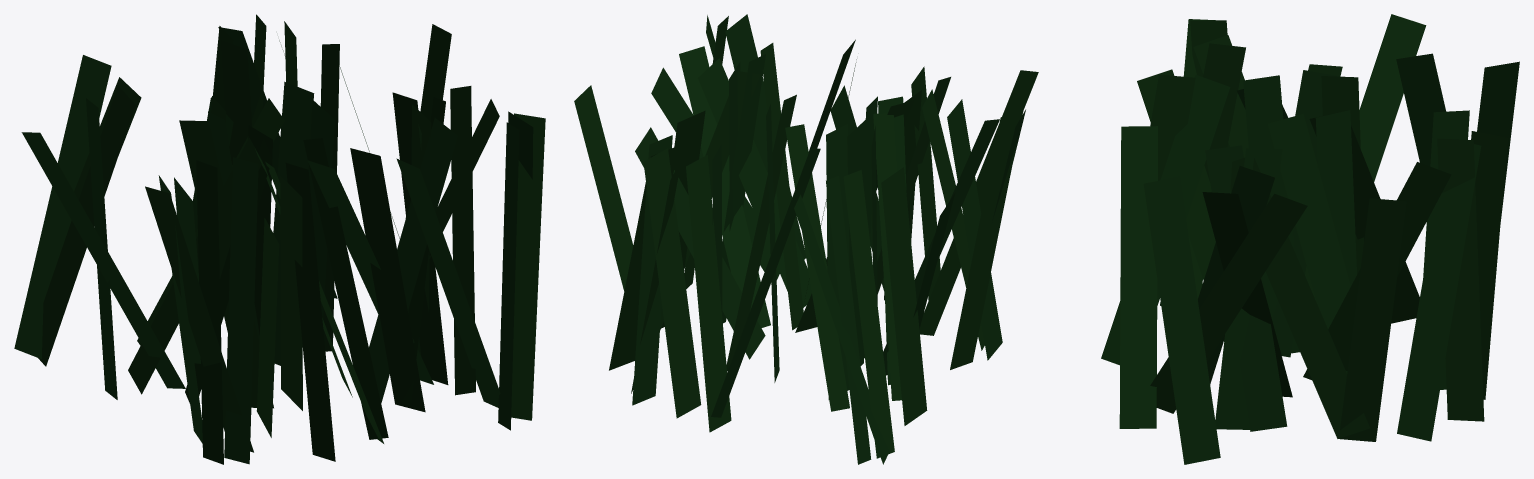
The model's file is grass.glb.
3 renders of one model, left to right at view 1: azimuth 30°, elevation 25°; view 2: azimuth 150°, elevation 25°; view 3: azimuth 270°, elevation 25°, orthographic. The views are drawn at different scales.
Parts seen in each view (by area): view 1: Plane.002; view 2: Plane.002; view 3: Plane.002.
Part boxes in pixels (x1=…): Plane.002: x1=14, y1=14, x2=545, y2=464; Plane.002: x1=574, y1=14, x2=1038, y2=464; Plane.002: x1=1101, y1=14, x2=1519, y2=464.
Bounding box in the file's own units: 13.46 × 9 × 13.3.
